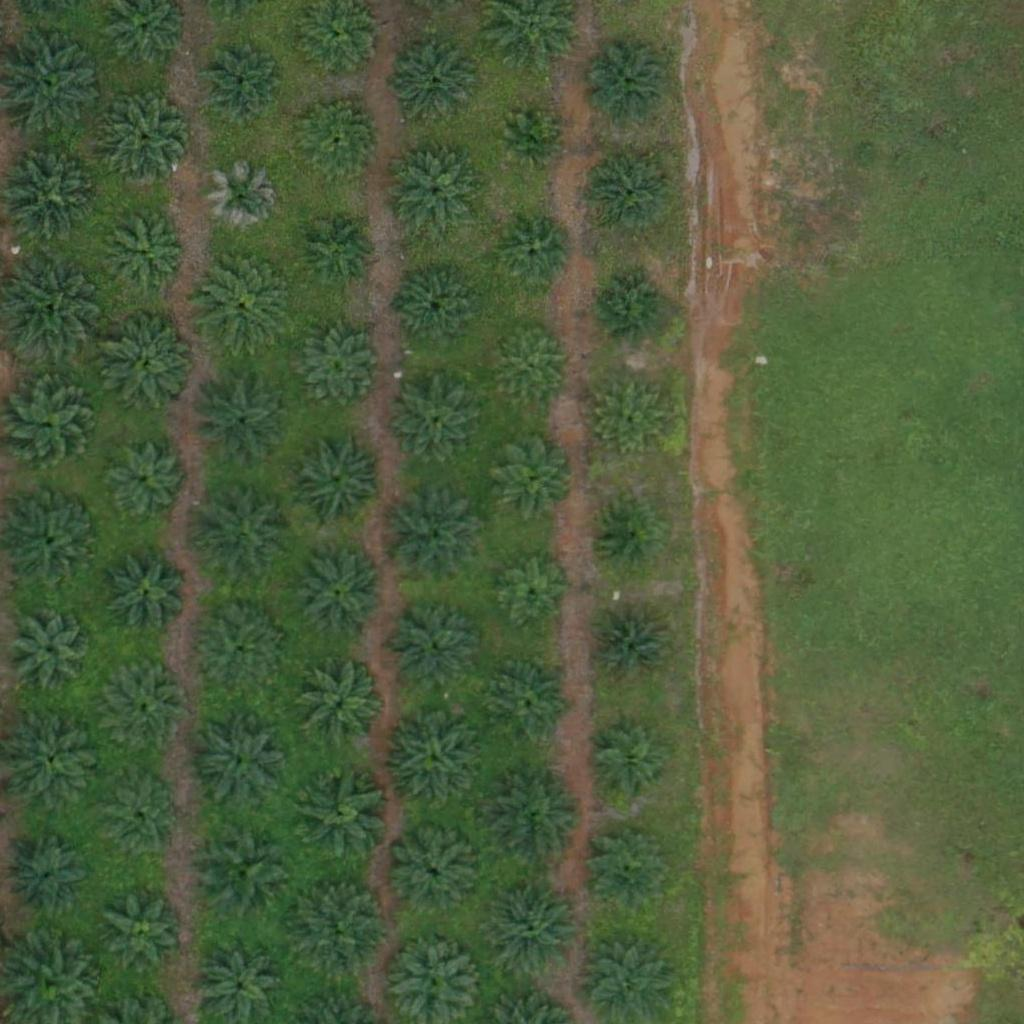Kelapa_Sawit: (197, 253, 297, 354), (380, 487, 480, 588), (285, 318, 385, 419), (285, 428, 385, 529), (191, 368, 291, 469), (4, 709, 104, 810), (194, 821, 294, 922), (289, 874, 389, 975), (487, 879, 587, 980), (483, 768, 583, 868), (383, 707, 483, 807), (289, 764, 389, 864), (194, 484, 294, 584), (189, 711, 289, 811), (99, 312, 199, 412), (2, 490, 102, 590), (293, 98, 381, 187), (395, 265, 483, 354), (391, 830, 479, 919), (294, 205, 382, 293), (585, 723, 673, 811), (584, 40, 672, 128), (585, 151, 673, 239), (488, 660, 576, 748), (390, 379, 478, 467), (389, 604, 477, 692), (102, 441, 190, 529), (486, 432, 573, 520), (589, 604, 676, 692), (103, 98, 190, 186), (391, 41, 478, 129), (392, 151, 479, 239), (294, 552, 381, 640), (297, 663, 384, 751), (197, 612, 284, 700), (9, 604, 96, 692), (585, 824, 672, 912), (109, 215, 184, 291), (111, 558, 186, 634), (109, 669, 184, 745), (12, 839, 87, 915), (106, 892, 181, 968), (499, 216, 574, 291), (497, 558, 572, 633), (589, 379, 664, 454), (596, 271, 671, 346), (203, 48, 278, 123), (205, 162, 280, 237), (491, 327, 566, 402), (101, 784, 176, 859), (594, 502, 657, 565), (501, 111, 564, 174)
